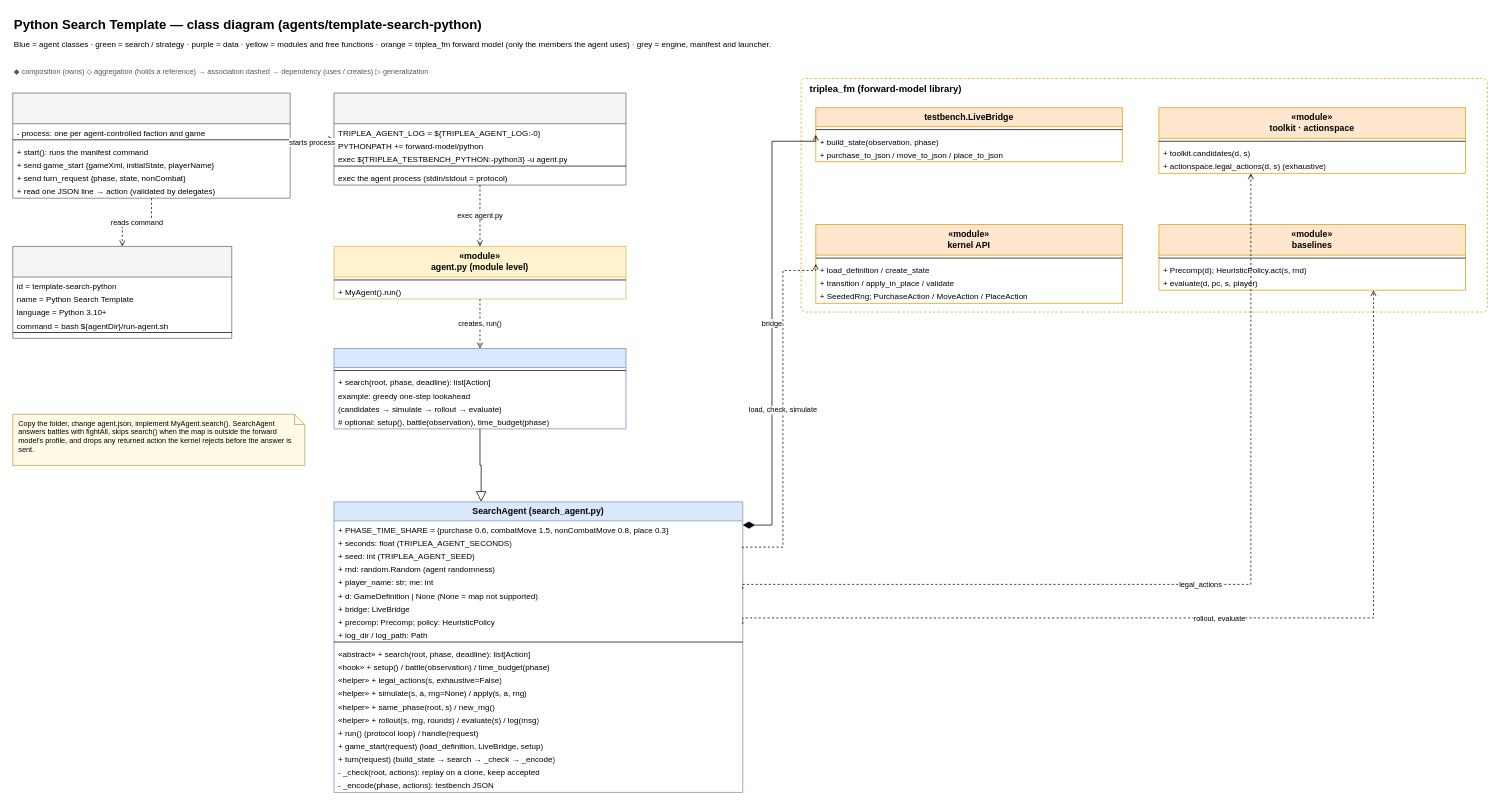
Some shapes in this 1500 by 805 pixel diagram are drawn without their labels. Each missing label, with the box of its shape:
MyAgent (agent.py — you edit this): (333, 348, 626, 429)
«engine» ExternalAgentPlayer (TripleA engine, Java): (12, 92, 290, 198)
«launcher» run-agent.sh: (333, 92, 626, 185)
«manifest» agent.json: (12, 246, 232, 338)
